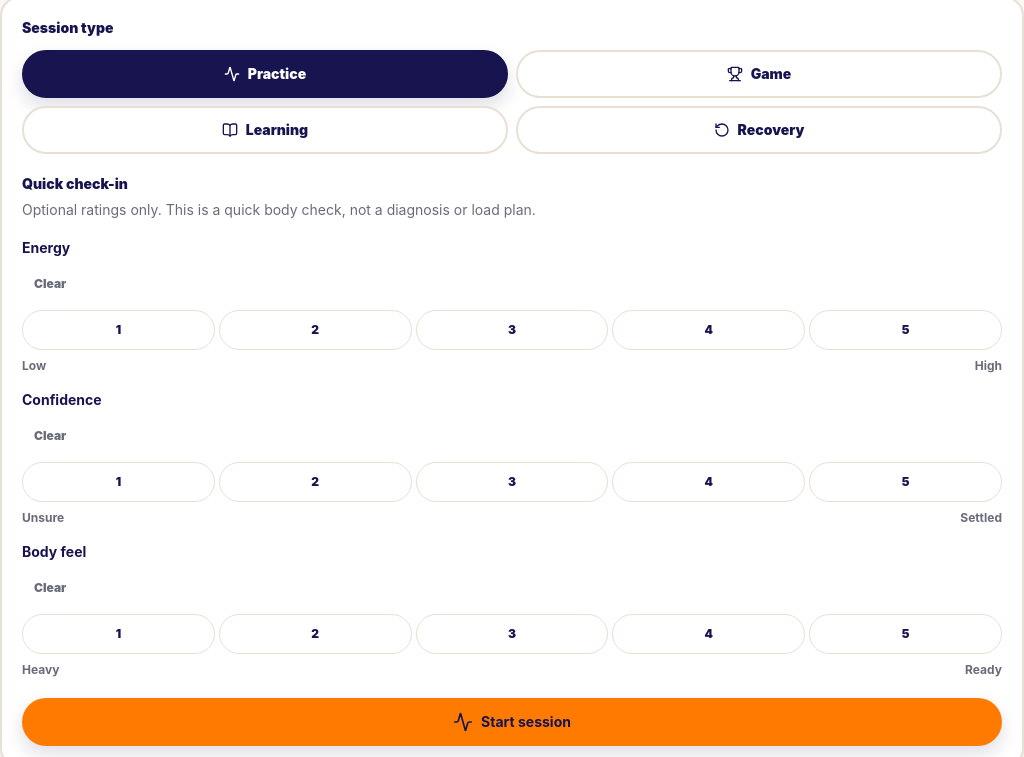
Test: SessionReflectionPanel › starts a session without optional check-in fields and saves a rating-only reflection
(page scrolled)
Check: the text "not a diagnosis or load plan" is shown, box top-left (22, 201), bottom-right (536, 218)
Click the button "Start session": (512, 722) top-left (22, 698), bottom-right (1002, 746)
(page scrolled)
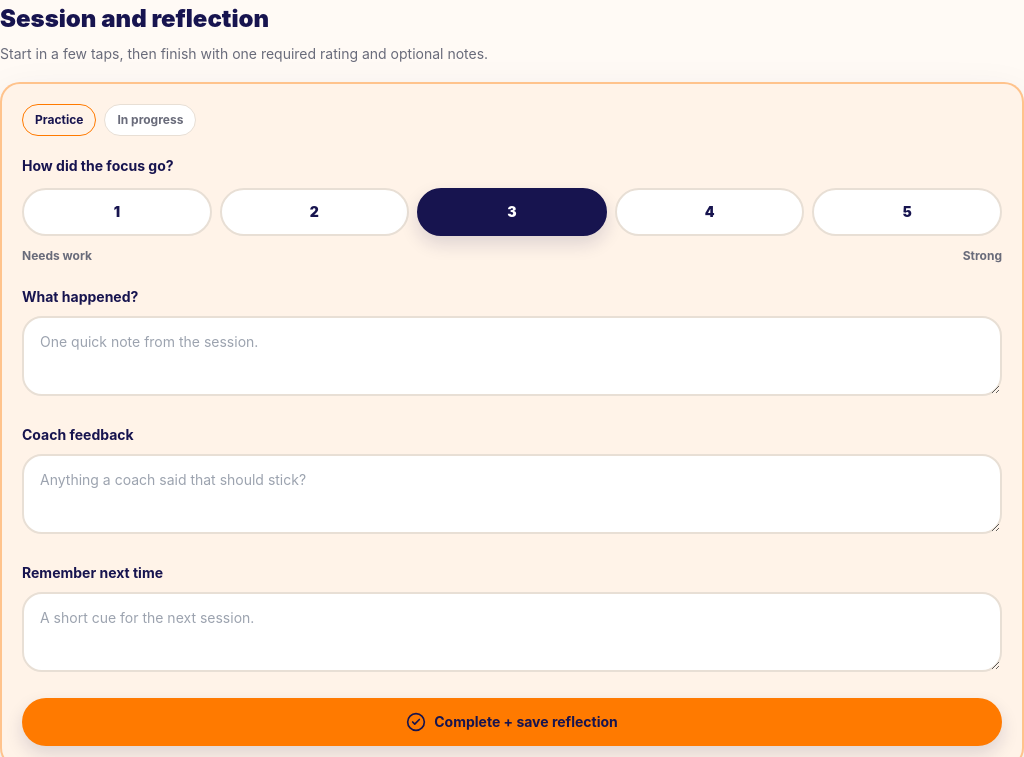
Check: the text "In progress" is shown, box top-left (104, 104), bottom-right (196, 136)
Click the radio button named "4 of 5": (710, 212) top-left (615, 188), bottom-right (804, 236)
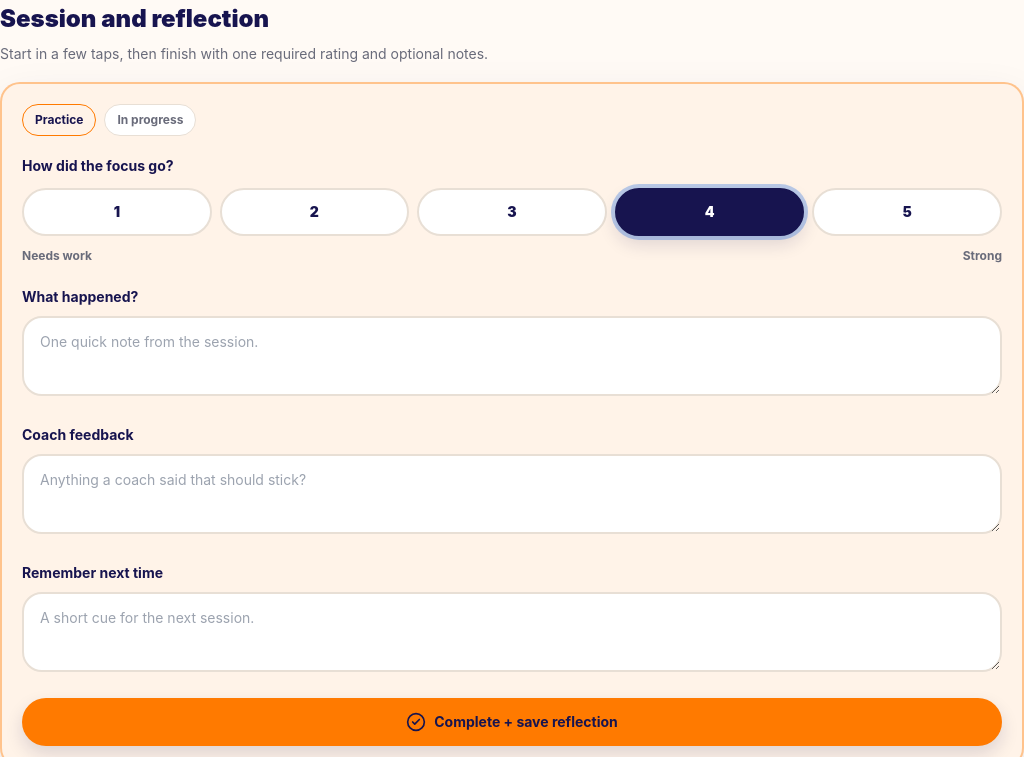
Click the button "Complete + save reflection": (512, 722) top-left (22, 698), bottom-right (1002, 746)
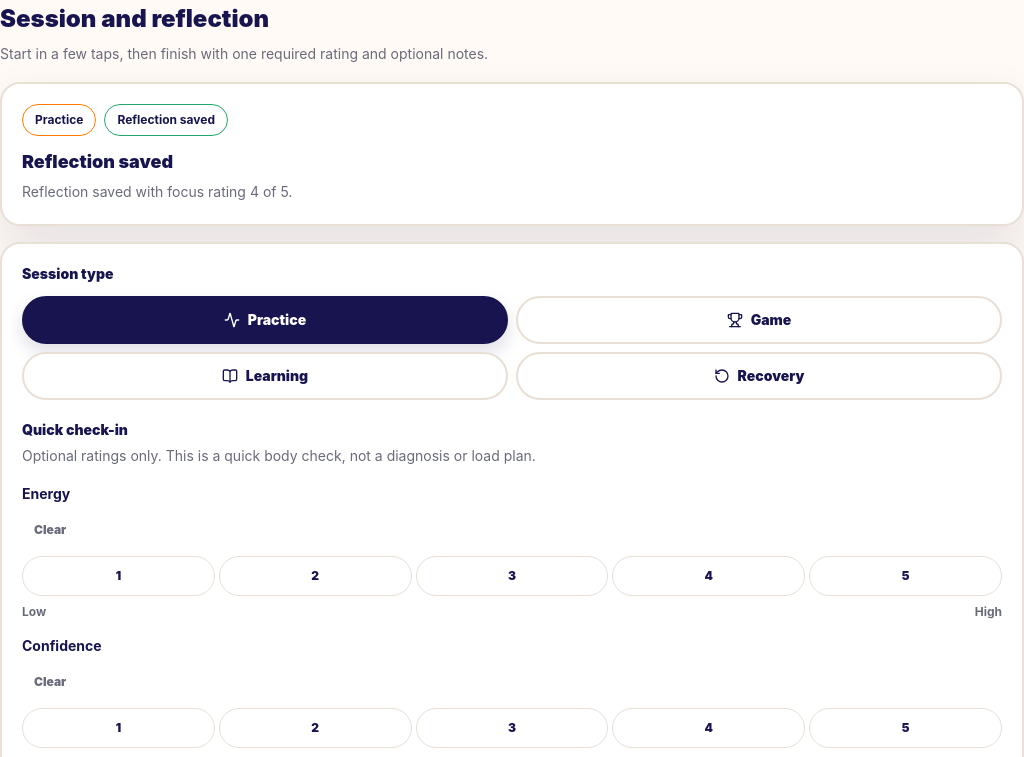
Check: the heading "Reflection saved" is shown, box top-left (22, 151), bottom-right (173, 172)
